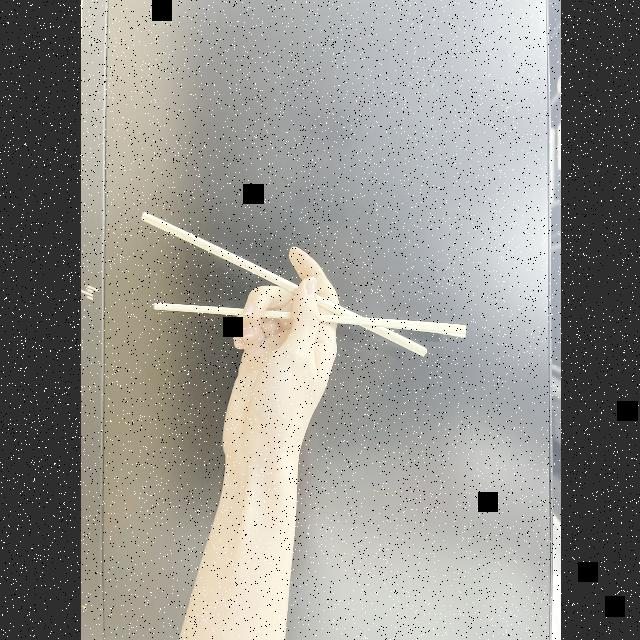stick: (138, 212, 468, 448)
